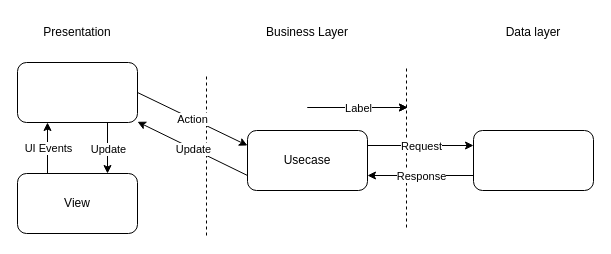
Image size: 611x254. Some labels were removed from this diagram. The box of each missing label's shape, as (x1, y1, x2, y2) in pixels:
Network: (472, 130, 594, 190)
ViewModel: (16, 62, 138, 122)
